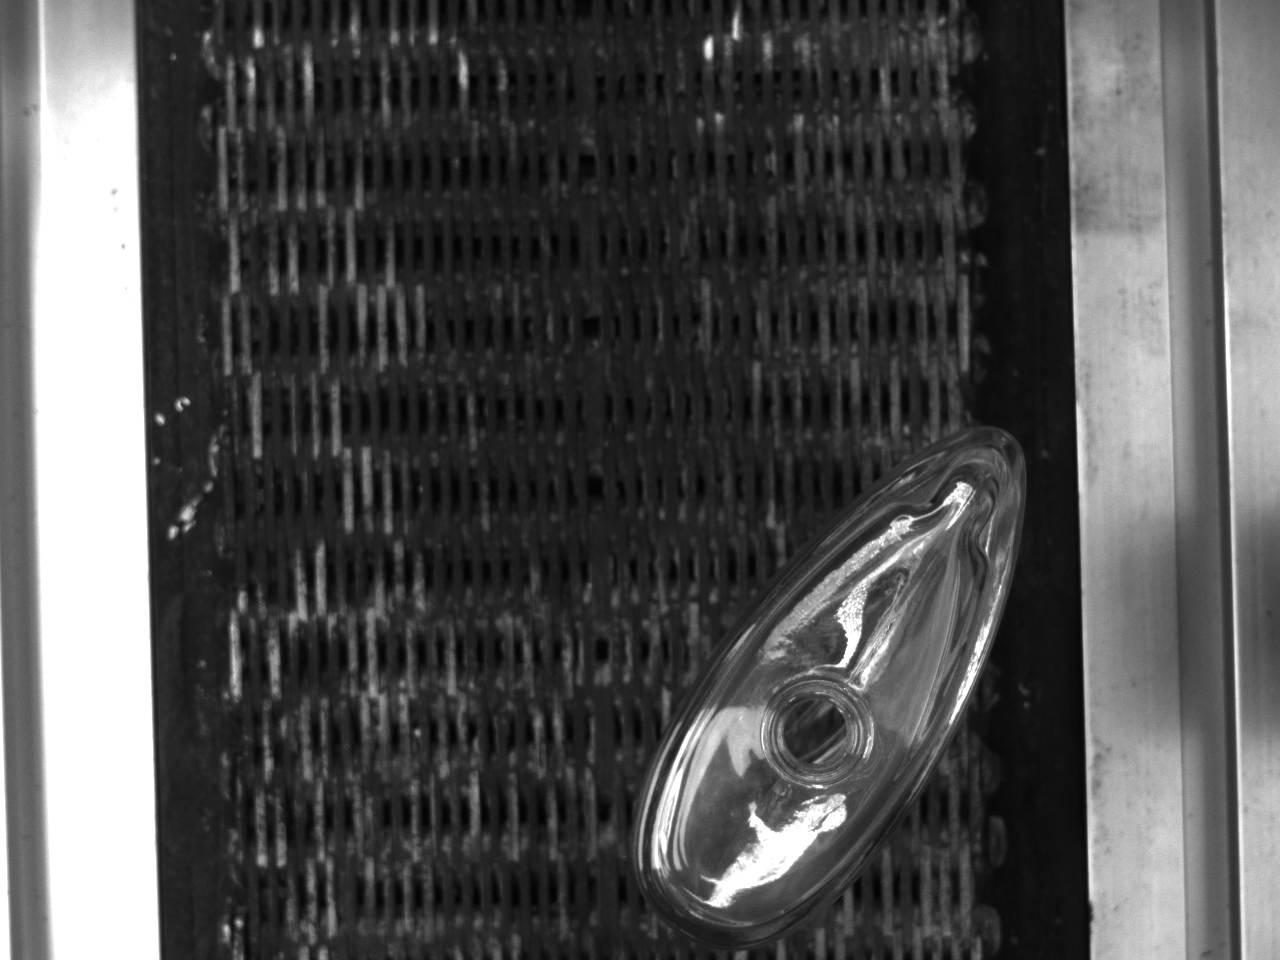bottleneck: (763, 677, 873, 784)
